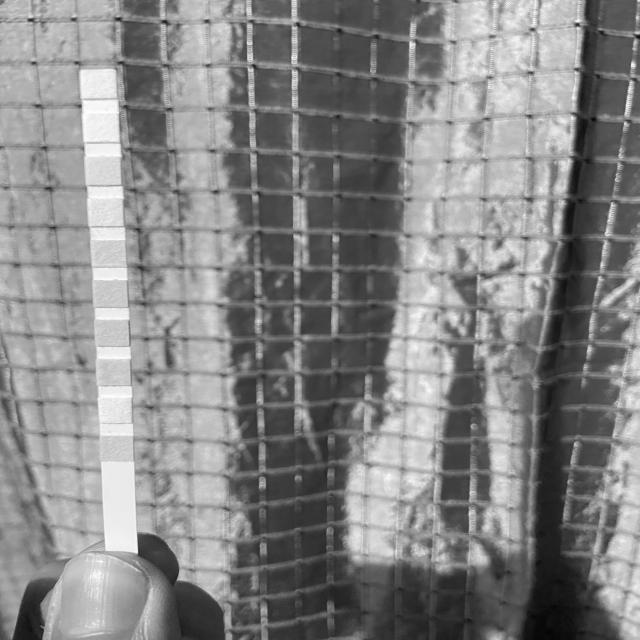Bilirubin: (101, 400, 129, 422)
Blood: (96, 282, 126, 307)
Glucose: (102, 438, 132, 459)
Ketone: (100, 362, 127, 384)
Leukocytes: (84, 72, 115, 96)
Nitrite: (87, 115, 117, 140)
Protein: (91, 200, 121, 225)
SpGravity: (98, 322, 126, 344)
Urobilinogen: (89, 158, 119, 184)
background: (0, 0, 640, 640)
pH: (94, 242, 123, 265)
strip: (80, 71, 137, 548)
